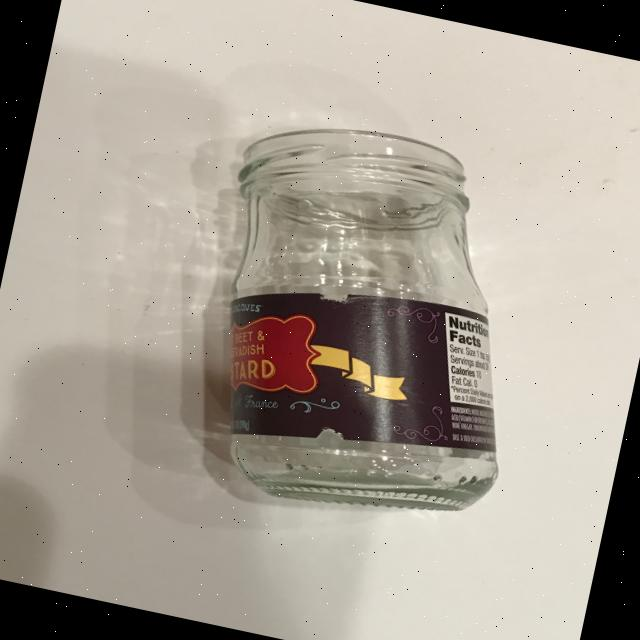glass: (172, 103, 564, 542)
